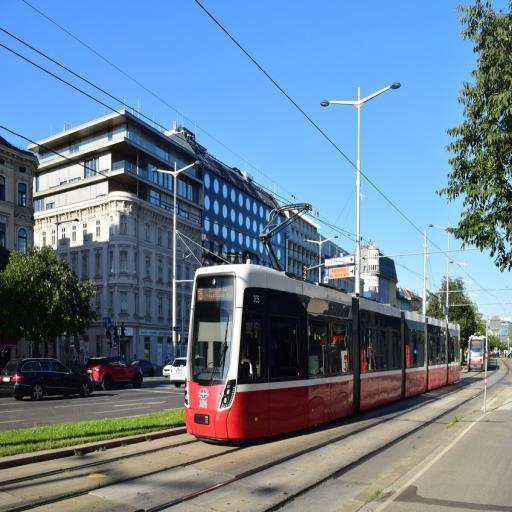Flexity: (184, 252, 461, 440)
ULF: (468, 336, 490, 371)
